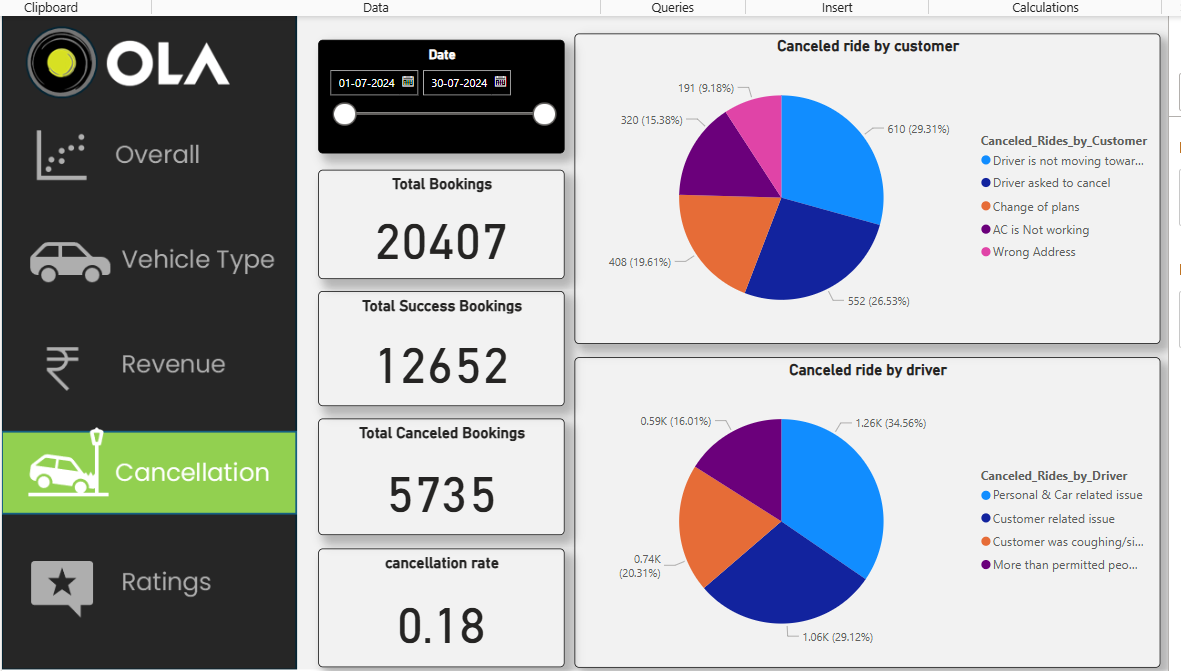

What the dashboard file says about the page in this screenshot:
{"tool":"powerbi","page":{"name":"Cancellation","canvas":[1280,720],"ordinal":3},"visuals":[{"type":"actionButton","box":[0,223.2,324.5,89.3],"z":0},{"type":"actionButton","box":[0,329.4,324.5,89.3],"z":1000},{"type":"actionButton","box":[10,339.4,324.5,89.3],"z":2000},{"type":"actionButton","box":[0,588.7,324.5,89.3],"z":3000},{"type":"actionButton","box":[0,106.2,324.5,89.3],"z":4000},{"type":"pieChart","title":"Canceled ride  by customer","fields":{"Category":["July.Canceled_Rides_by_Customer"],"Y":["CountNonNull(July.Booking_Status)"]},"box":[628.1,19.5,643.2,341.1],"z":5000},{"type":"pieChart","title":"Canceled ride by driver","fields":{"Category":["July.Canceled_Rides_by_Driver"],"Y":["CountNonNull(July.Canceled_Rides_by_Driver)"]},"box":[628.1,374.2,643.2,341.1],"z":6000},{"type":"slicer","title":"Date","fields":{"Values":["July.Date"]},"box":[347.1,25.5,270.5,124.7],"z":7000},{"type":"card","title":"Total Bookings","fields":{"Values":["CountNonNull(July.Booking_ID)"]},"box":[347.1,168.3,270.5,120.2],"z":8000},{"type":"card","title":"Total Success Bookings","fields":{"Values":["CountNonNull(July.Booking_ID)"]},"box":[347.1,302,270.5,126.2],"z":9000},{"type":"card","title":"Total Canceled Bookings","fields":{"Values":["CountNonNull(July.Booking_ID)"]},"box":[347.1,441.8,270.5,127.7],"z":10000},{"type":"card","title":"cancellation rate","fields":{"Values":["July.CancledPercentage"]},"box":[347.1,584.6,270.5,130.7],"z":11000}]}

Visuals, with their boxes on the page's 1280x720 design canvas (x1, y1, x2, y2). These are canvas units, not pixel positions in the 1181x671 screenshot, which may show the page scaled, cropped or inside an application window:
actionButton: bbox(0, 223, 324, 312)
actionButton: bbox(0, 329, 324, 419)
actionButton: bbox(10, 339, 334, 429)
actionButton: bbox(0, 589, 324, 678)
actionButton: bbox(0, 106, 324, 196)
"Canceled ride  by customer" pieChart: bbox(628, 20, 1271, 361)
"Canceled ride by driver" pieChart: bbox(628, 374, 1271, 715)
"Date" slicer: bbox(347, 26, 618, 150)
"Total Bookings" card: bbox(347, 168, 618, 288)
"Total Success Bookings" card: bbox(347, 302, 618, 428)
"Total Canceled Bookings" card: bbox(347, 442, 618, 570)
"cancellation rate" card: bbox(347, 585, 618, 715)
